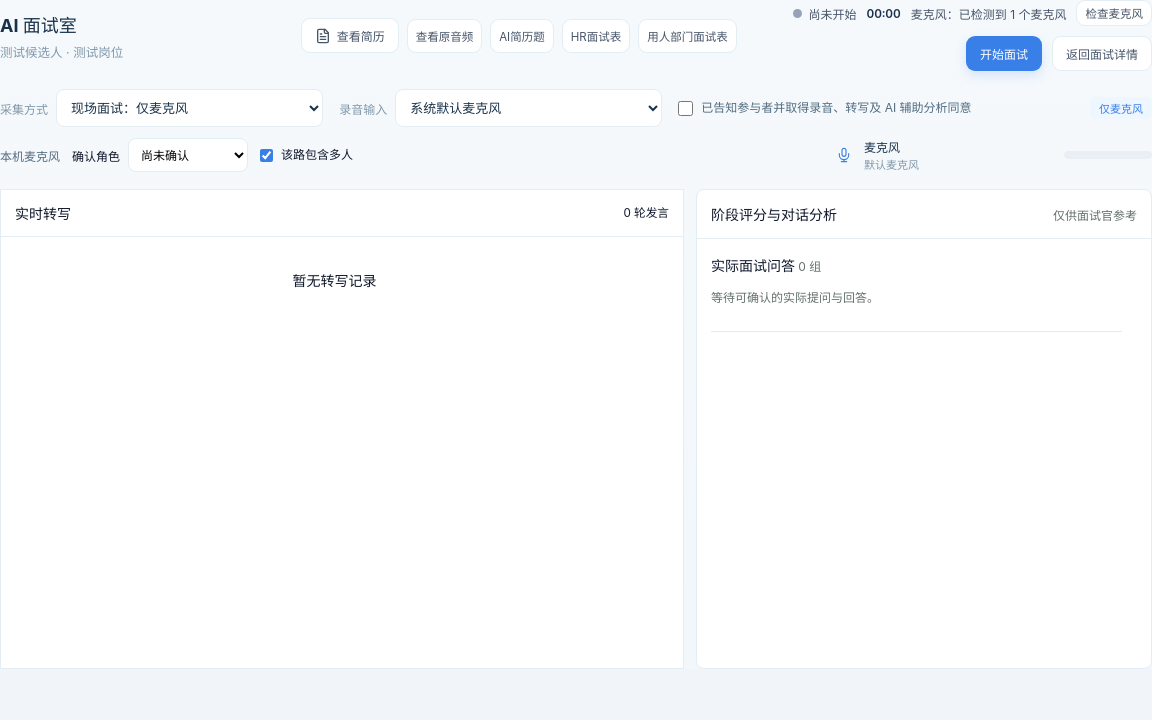
live interview meeting audio › commits on pause, freezes elapsed time, and continues without repeating sharing authorization
Step 1. Select "线上面试：麦克风 + 会议声音" in the dropdown named "音频采集方式" → (190, 108), box [56,89,323,127]
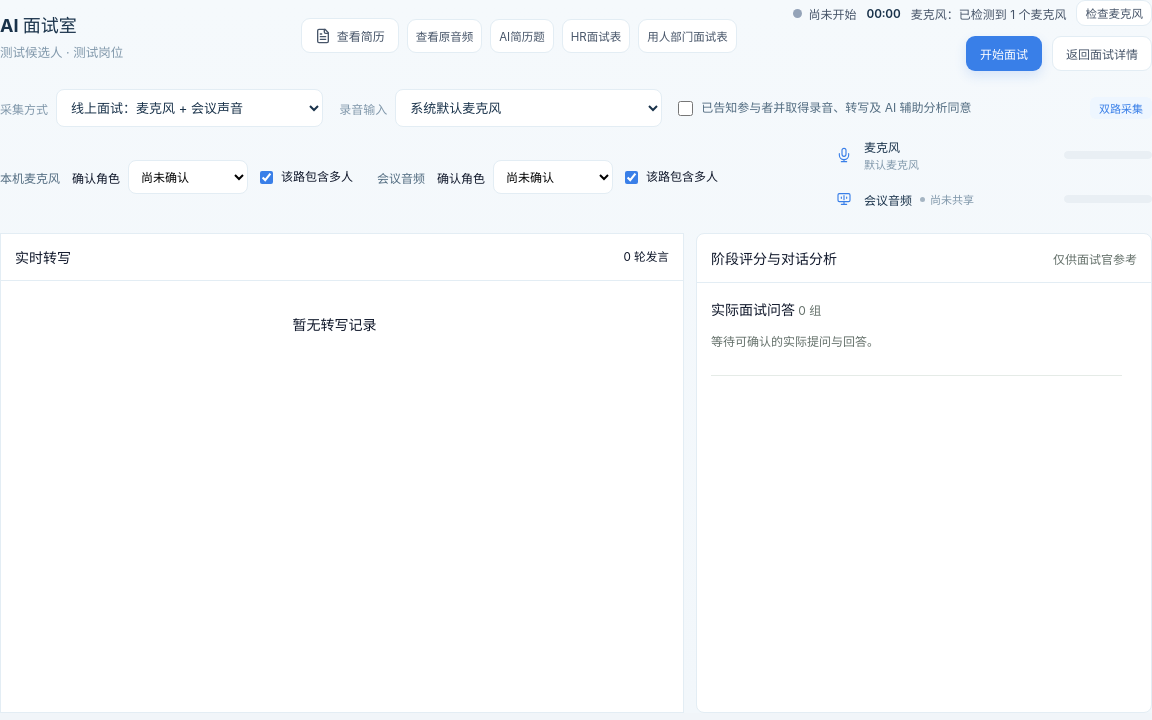
Step 2. Click the checkbox labelled "已告知参与者并取得录音、转写及 AI 辅助分析同意" → click(686, 108), box [678,100,693,116]
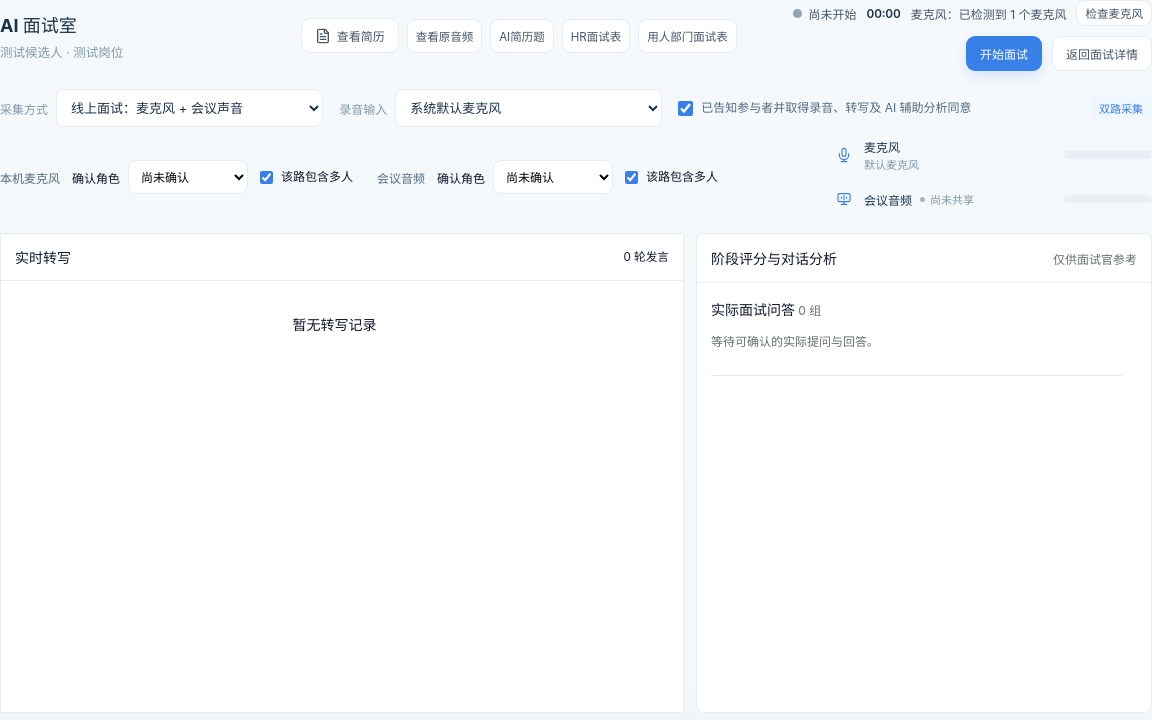
Step 3. Click the button "开始面试" → click(1004, 54), box [966,36,1042,71]
Wait 3000 ms
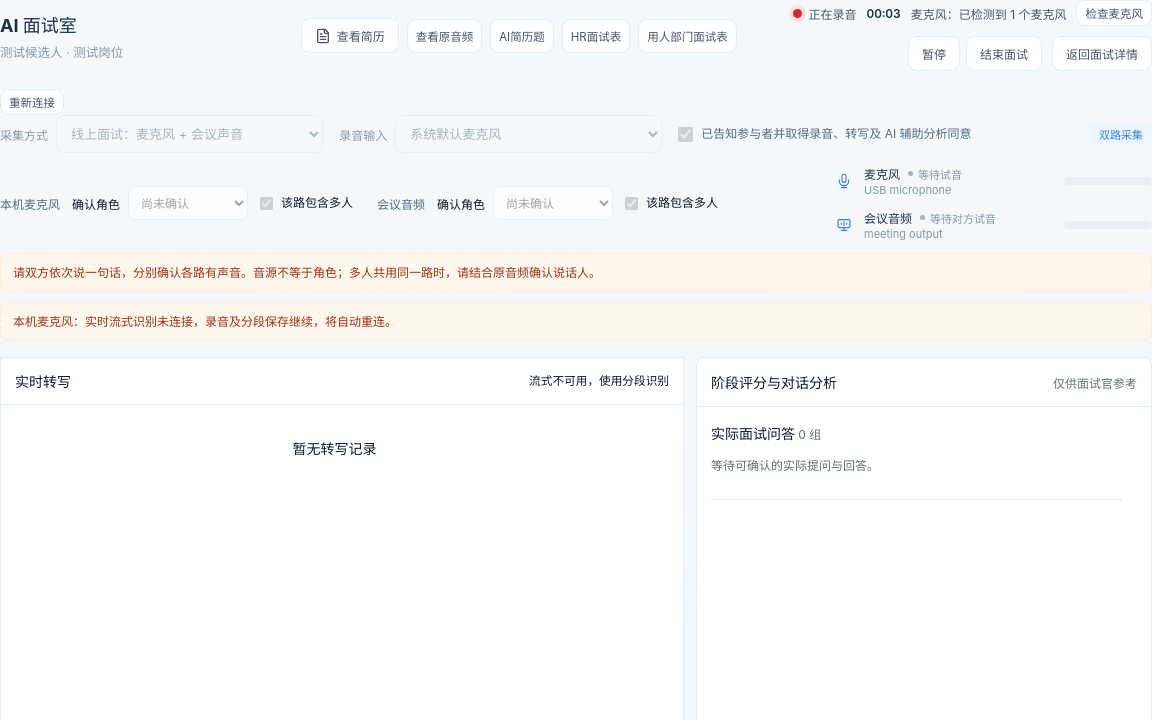
Step 4. Click the button "暂停" → click(934, 54), box [908,36,960,71]
Wait 60000 ms
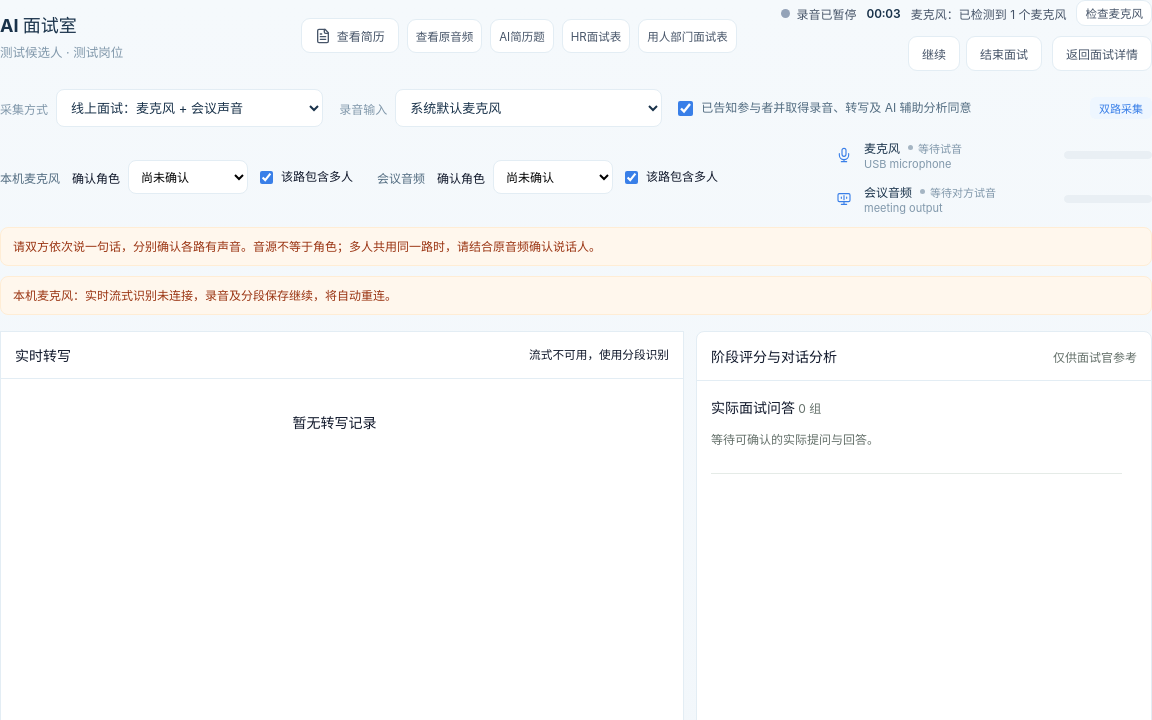
Expected: the text with class "session-elapsed" reads "00:03", [867,6,901,20]
Step 5. Click the button "继续" → click(934, 54), box [908,36,960,71]
Wait 2000 ms
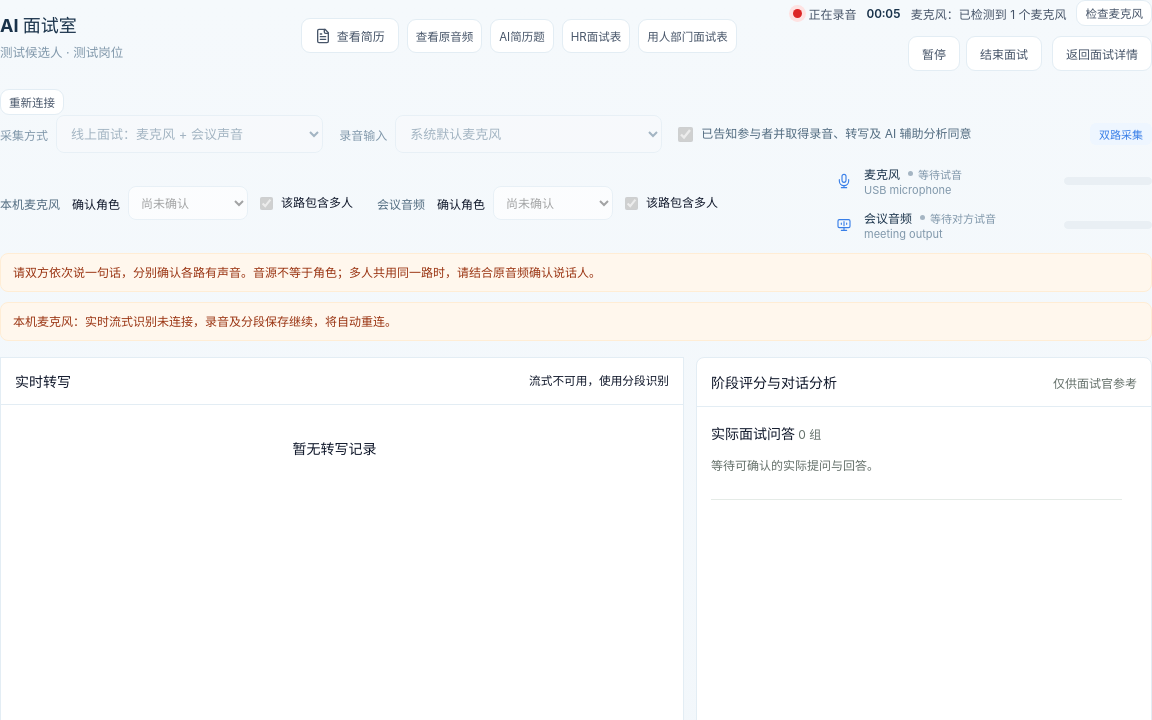
Expected: the text with class "session-elapsed" reads "00:05", [867,6,901,20]
